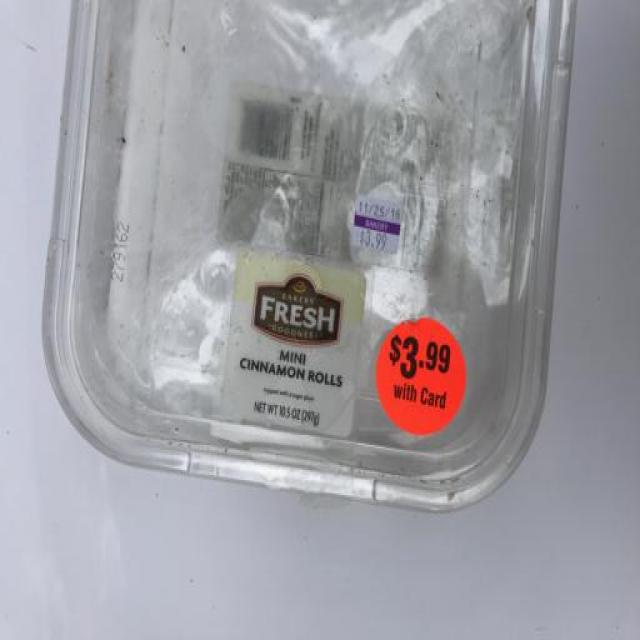plastic: (36, 1, 596, 498)
